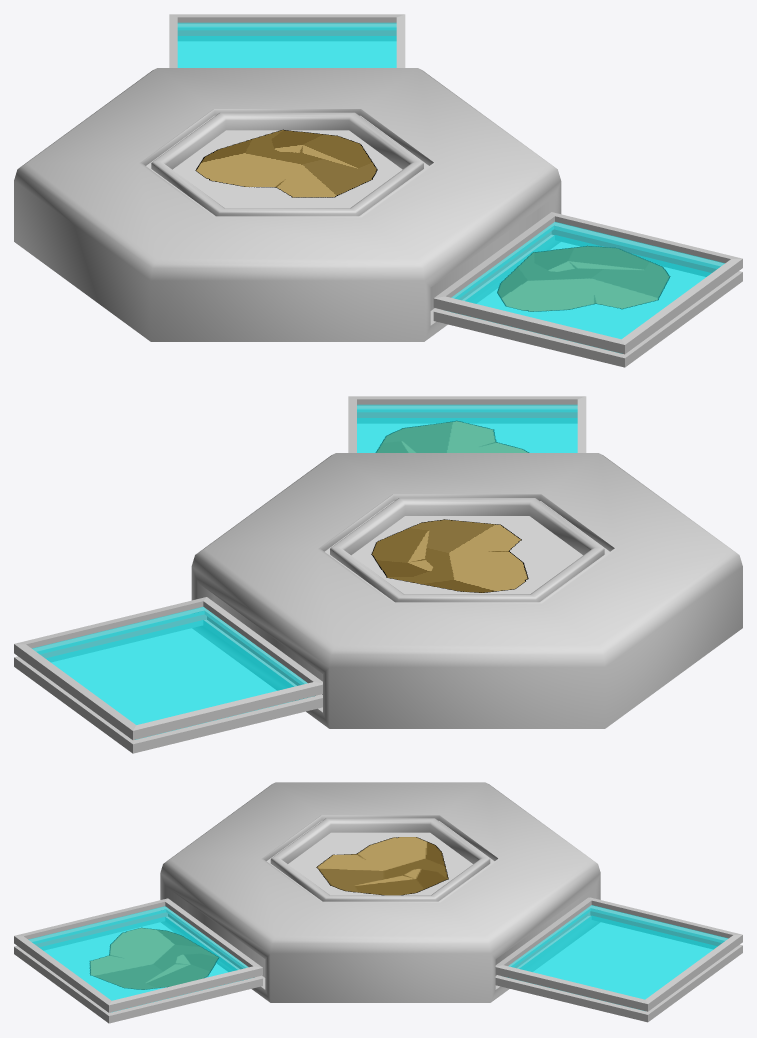
The picture shows the model from 3 angles, top to bottom: view 1: azimuth 30°, elevation 25°; view 2: azimuth 150°, elevation 25°; view 3: azimuth 270°, elevation 25°; orthographic projection. The views are drawn at different scales.
Visible parts, largest first — view 1: main_body, false_tape, true_tape, false_tape.001, checked_element; view 2: main_body, true_tape, false_tape, checked_element, false_tape.001; view 3: main_body, false_tape, true_tape, checked_element, false_tape.001.
Boxes of the visible parts, x1=… form: main_body: x1=14, y1=68, x2=561, y2=341; false_tape: x1=433, y1=212, x2=742, y2=367; true_tape: x1=169, y1=14, x2=405, y2=67; false_tape.001: x1=497, y1=245, x2=670, y2=311; checked_element: x1=195, y1=129, x2=377, y2=197; main_body: x1=191, y1=453, x2=742, y2=728; true_tape: x1=14, y1=597, x2=322, y2=753; false_tape: x1=348, y1=396, x2=586, y2=452; checked_element: x1=371, y1=519, x2=528, y2=592; false_tape.001: x1=375, y1=420, x2=528, y2=452; main_body: x1=160, y1=782, x2=600, y2=1002; false_tape: x1=14, y1=898, x2=262, y2=1023; true_tape: x1=495, y1=897, x2=742, y2=1022; checked_element: x1=316, y1=837, x2=448, y2=895; false_tape.001: x1=89, y1=927, x2=219, y2=989.
Size of the model in its own units: 208 by 32.23 by 331.
